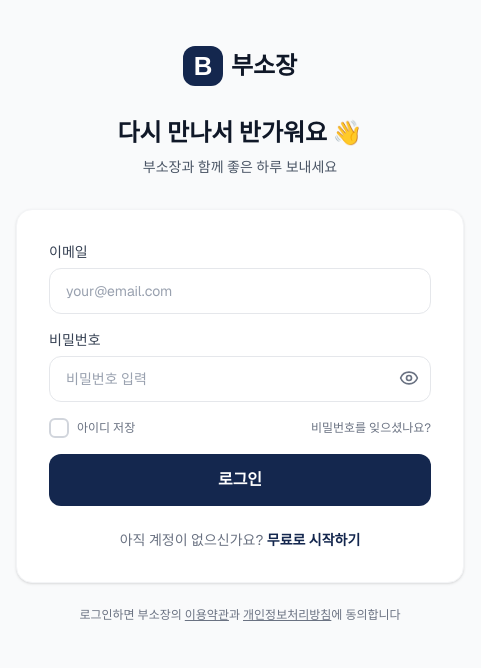
LoginForm — 로그인 실패 까닭별 안내 (#46) › 요청이 몰려 막히면 잠시 후 다시
The width and height of the screenshot is (481, 668).
Type "name@example.com" into the field labelled "이메일" at (240, 290), box [49, 268, 431, 314]
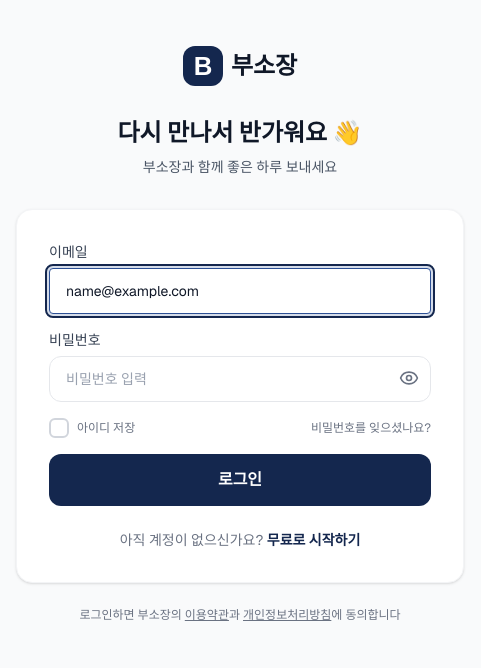
Type "abcd1234!" into the password field labelled "비밀번호" at (240, 378), box [49, 356, 431, 402]
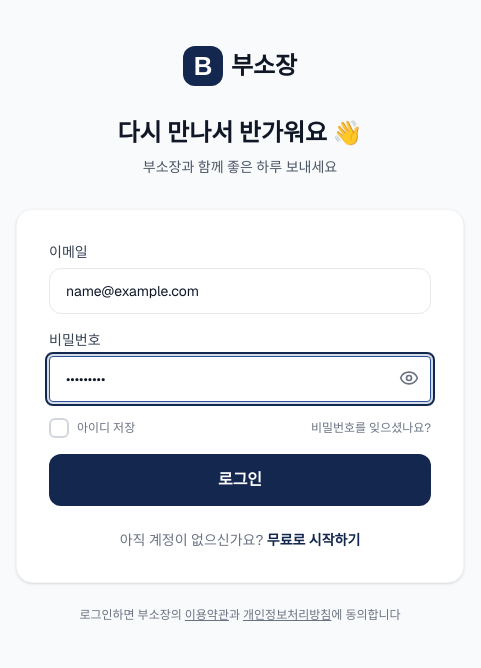
Click the button "로그인" at (240, 480), box [49, 454, 431, 506]
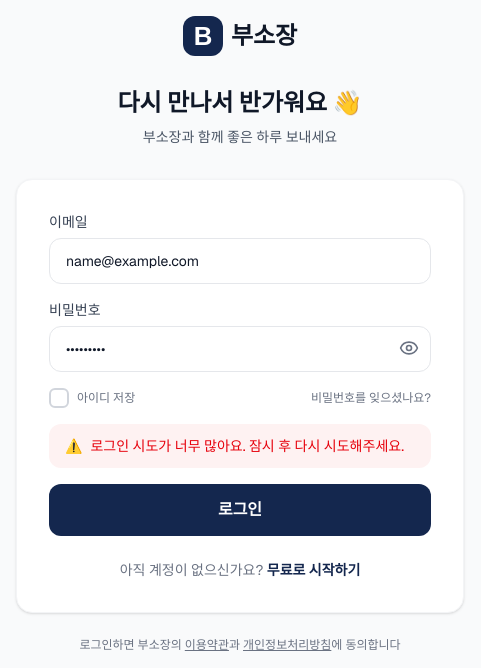
Expected: the text "⚠️ 로그인 시도가 너무 많아요. 잠시 후 다시 시도해주세요." is shown, [49, 424, 431, 468]
